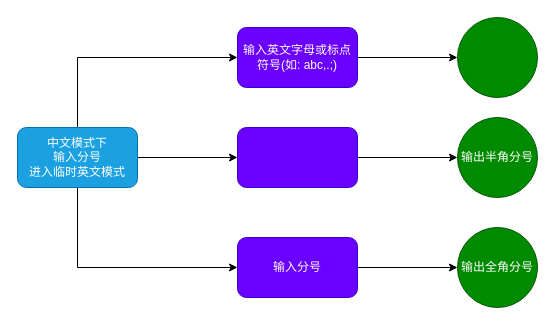
Image size: 555x325. Some labels were removed from this diagram. Each missing label, with the centre of its shape:
输入空格: the point at 297,157
输出字母或半角符号 (如: abc,.;): the point at 497,57
